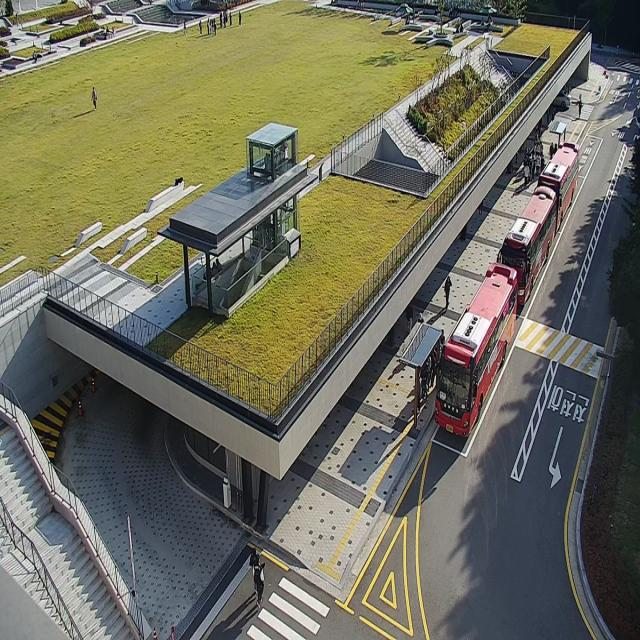queue: (412, 330, 445, 434)
